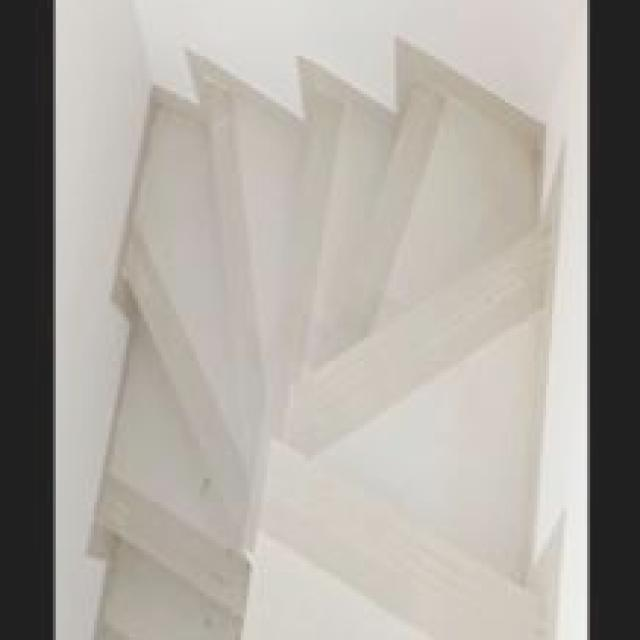downstair: (224, 66, 574, 612)
